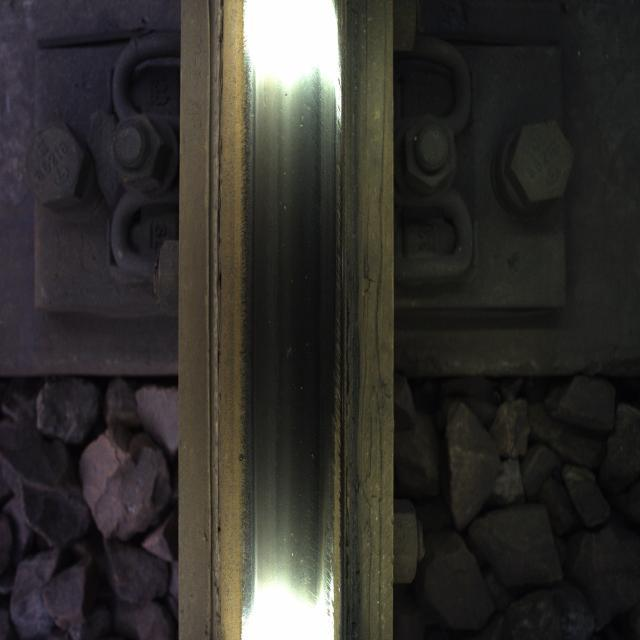normal: (245, 39, 339, 604)
